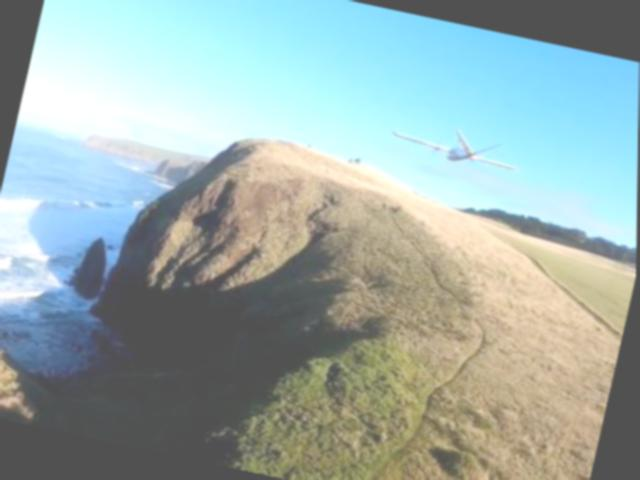uav: (386, 118, 523, 180)
